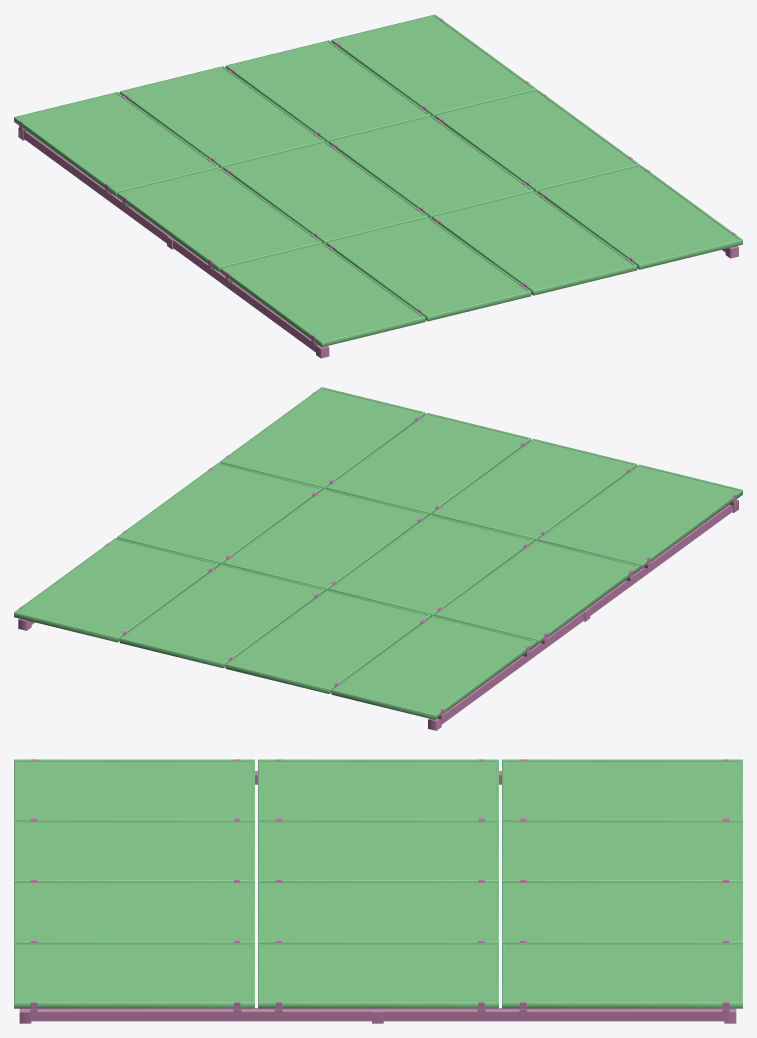
The model's file is Panel_3.fbx.
3 views of the same model, one above another, from view 1: azimuth 30°, elevation 25°; view 2: azimuth 150°, elevation 25°; view 3: azimuth 270°, elevation 25° (orthographic). The views are drawn at different scales.
Parts seen in each view (by area): view 1: Panel_3_LOD0; view 2: Panel_3_LOD0; view 3: Panel_3_LOD0.
Part boxes in pixels (x1=…): Panel_3_LOD0: x1=14, y1=14, x2=742, y2=358; Panel_3_LOD0: x1=14, y1=387, x2=742, y2=730; Panel_3_LOD0: x1=14, y1=759, x2=742, y2=1023.
Size of what is drawn, in the model's own units: 4.07 by 0.1692 by 5.14.
